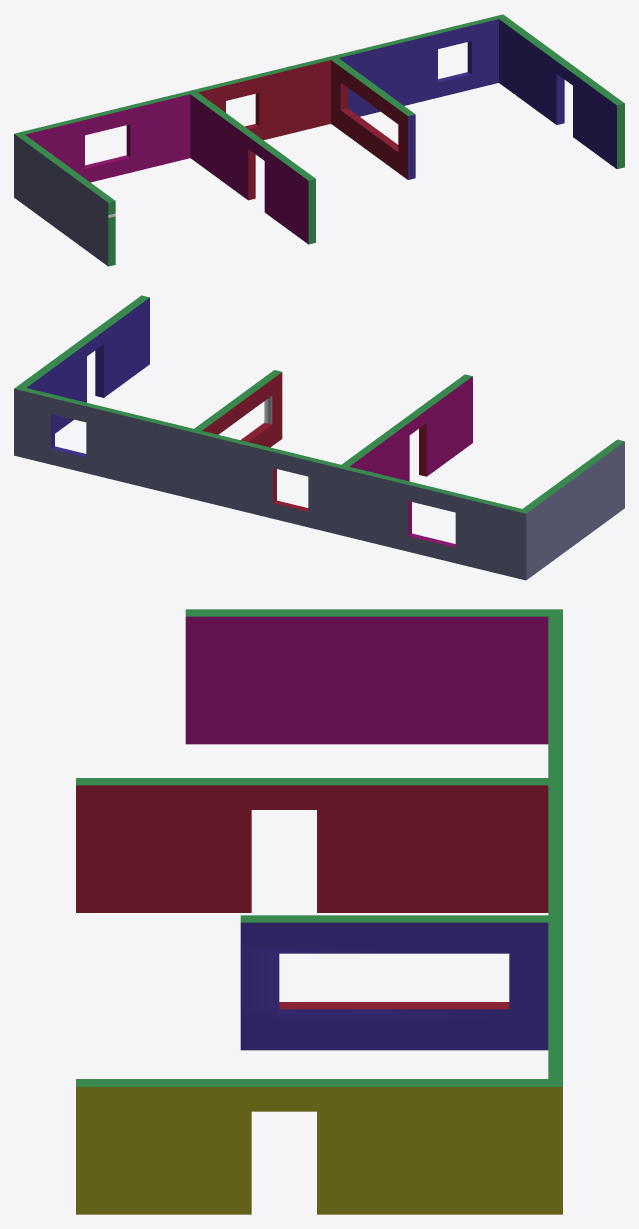
The model's file is apartmentWalls.fbx.
The picture shows the model from 3 angles, top to bottom: view 1: azimuth 30°, elevation 25°; view 2: azimuth 150°, elevation 25°; view 3: azimuth 270°, elevation 25°; orthographic projection. The views are drawn at different scales.
Visible parts, largest first — view 1: Cube.001; view 2: Cube.001; view 3: Cube.001.
Boxes of the visible parts, x1,y1,x2,y2 form: Cube.001: [14, 14, 624, 266]; Cube.001: [14, 295, 624, 580]; Cube.001: [76, 609, 562, 1214].
Bounding box in the file's own units: 2323 × 290 × 1002.
